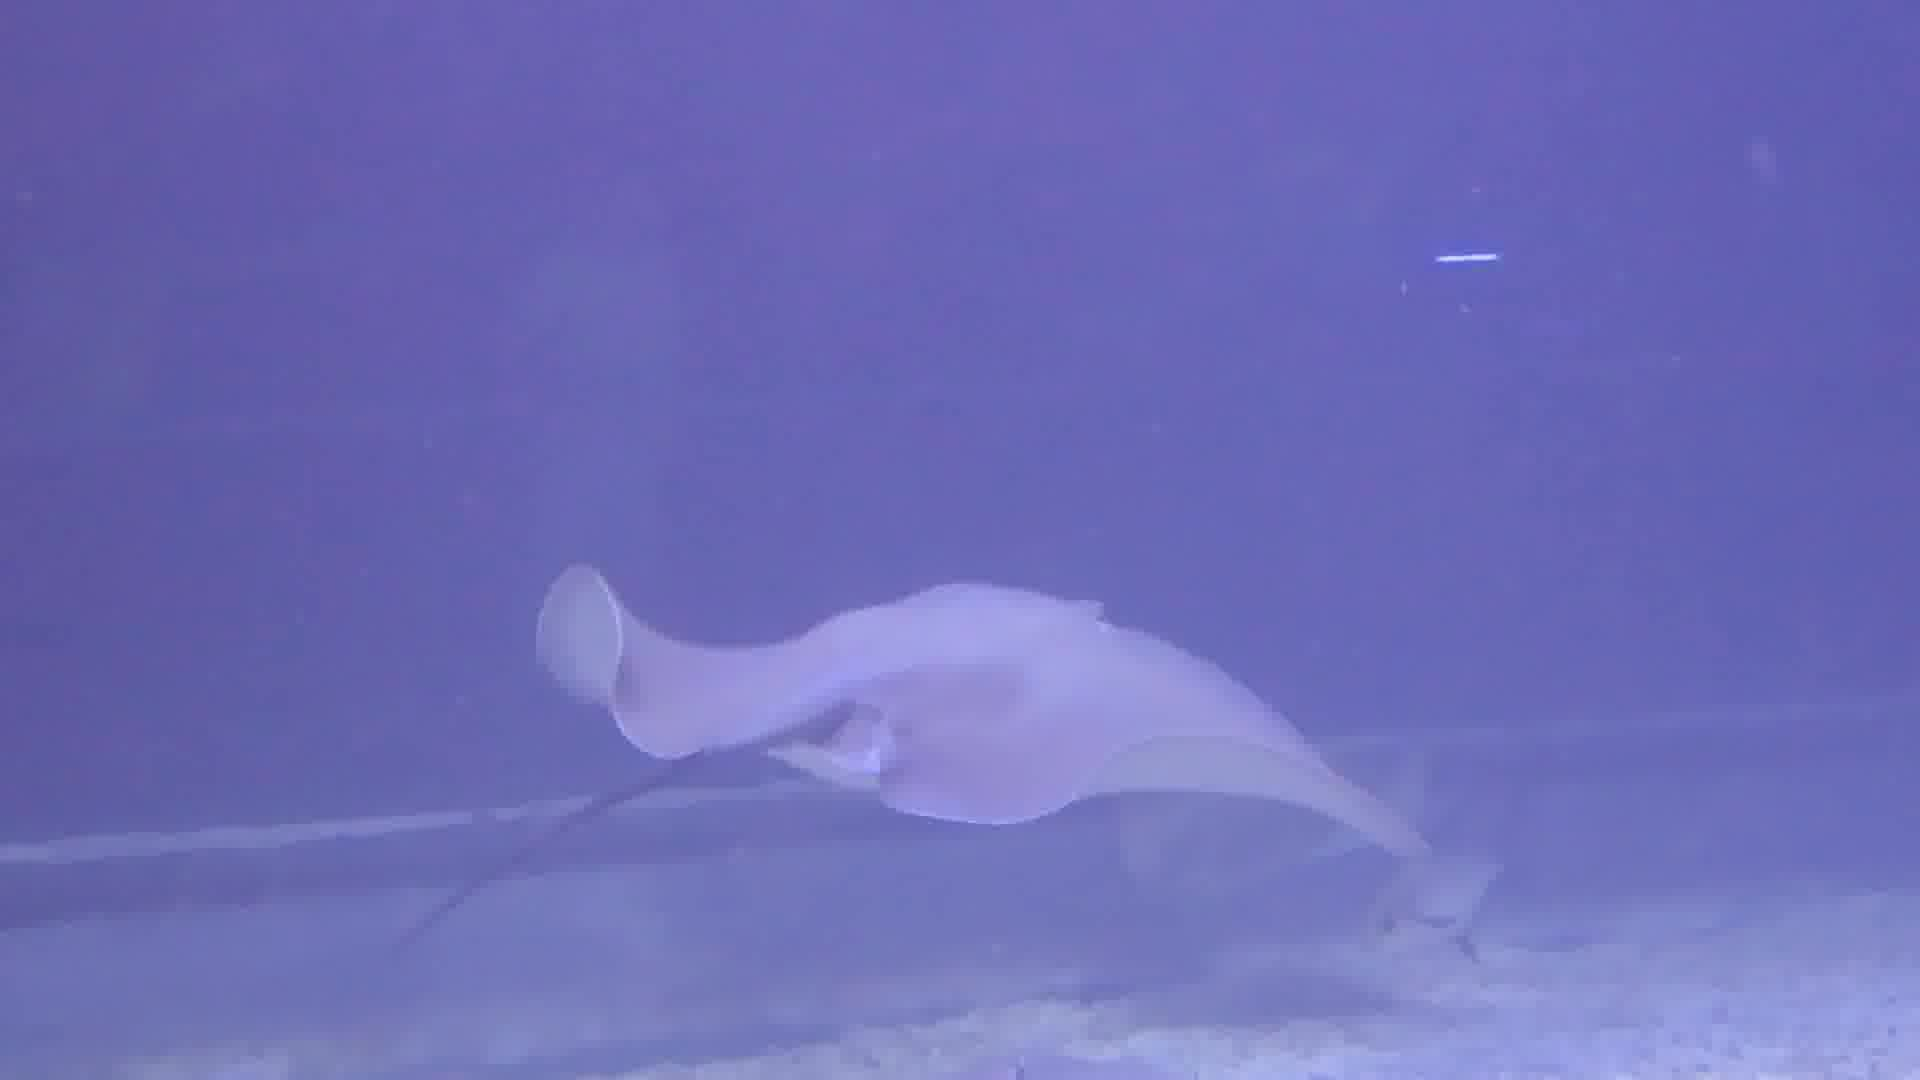Dasyatis akajei: (433, 443, 1433, 1007)
